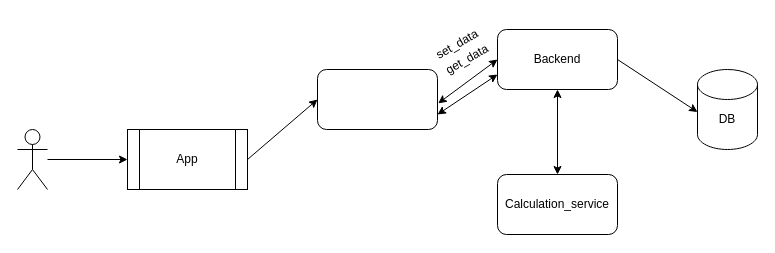
Image size: 775x253. Some labels were removed from this diagram. Each missing label, with the centre of its shape:
"Actor" goes at (32,159).
"Frontend" goes at (377,99).
